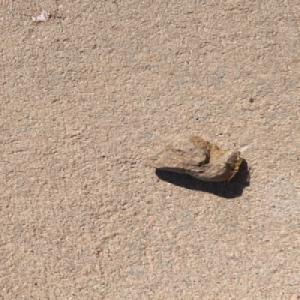Rock: (140, 132, 243, 182)
